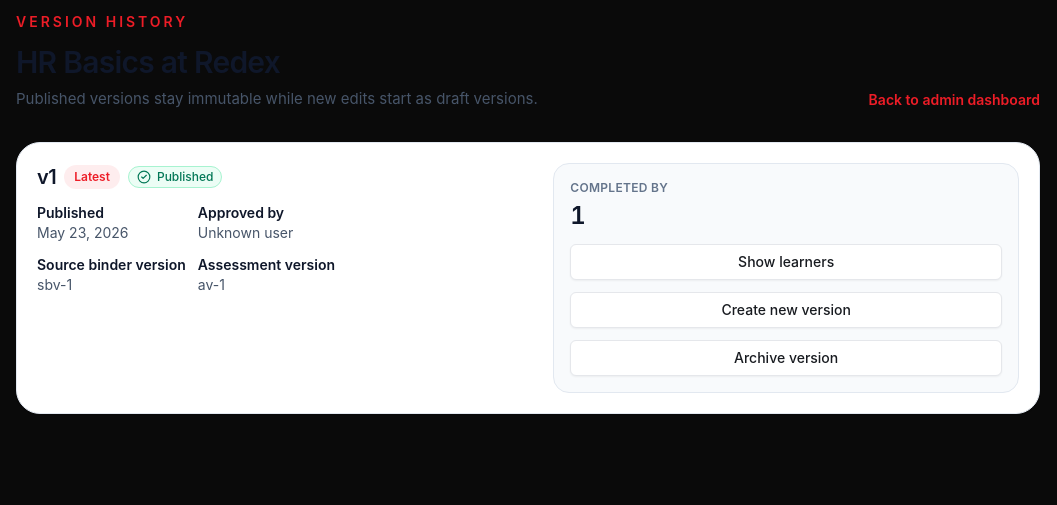
Test: ModuleVersionHistoryPage › shows completed count and expands learner names
Expected: the text "Completed by" is shown, [570,180,668,195]
Expected: the text "1" is shown, [570,201,586,230]
Click the button "Show learners" at (786, 262), box [570,244,1002,280]
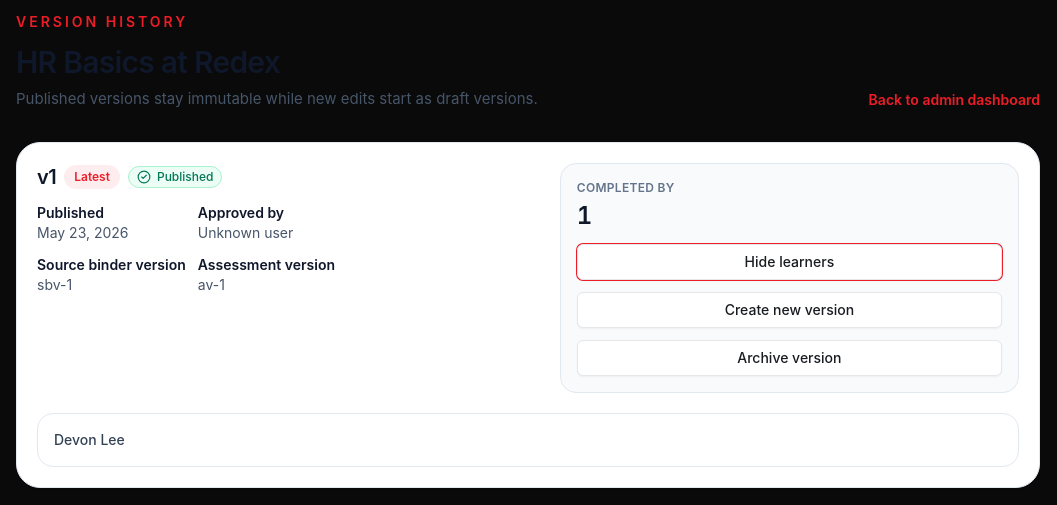
Result: the list item "Devon Lee" is shown at [54,431,125,448]
